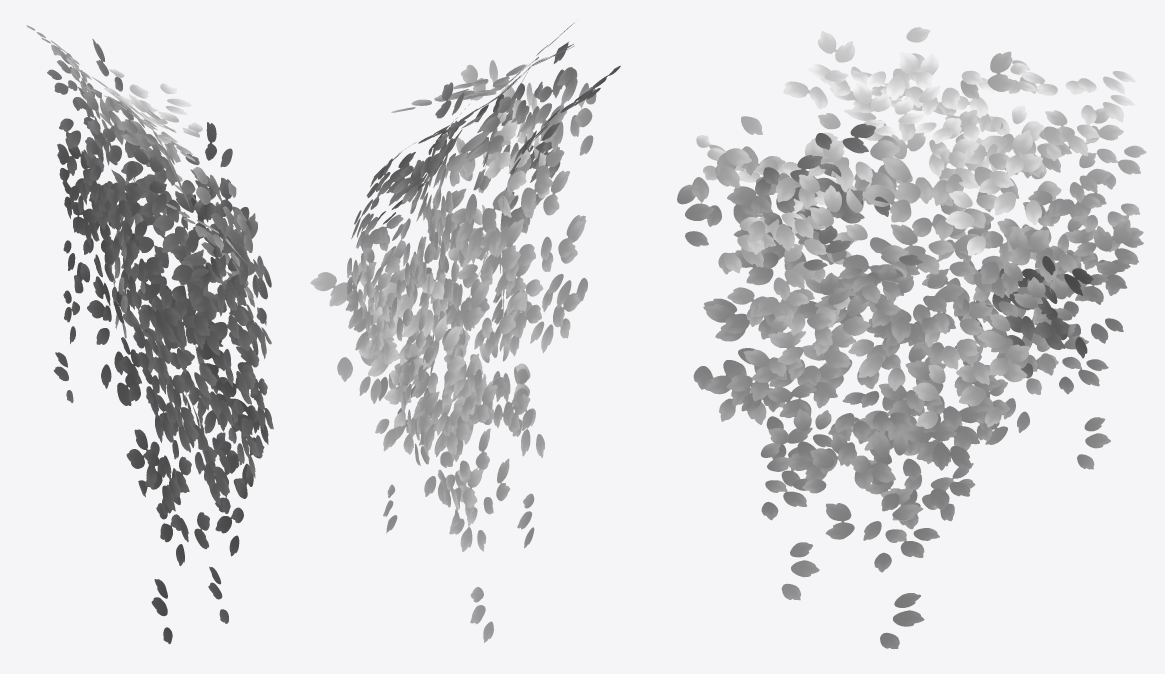
The model's file is SM_Vines_Large_01.fbx.
3 renders of one model, left to right at view 1: azimuth 30°, elevation 25°; view 2: azimuth 150°, elevation 25°; view 3: azimuth 270°, elevation 25°, orthographic. The views are drawn at different scales.
Visible parts, largest first — view 1: Vines_Large_01_LOD0; view 2: Vines_Large_01_LOD0; view 3: Vines_Large_01_LOD0.
Part boxes in pixels (<box>): Vines_Large_01_LOD0: <box>26,25,273,644</box>; Vines_Large_01_LOD0: <box>310,20,620,642</box>; Vines_Large_01_LOD0: <box>677,27,1146,648</box>.
Size of what is drawn, in the model's own units: 1.39 by 5.33 by 3.85.
